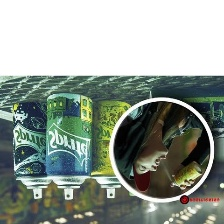aerosol_cans: (44, 89, 94, 202), (85, 97, 136, 200), (10, 99, 57, 200), (167, 158, 203, 188)
